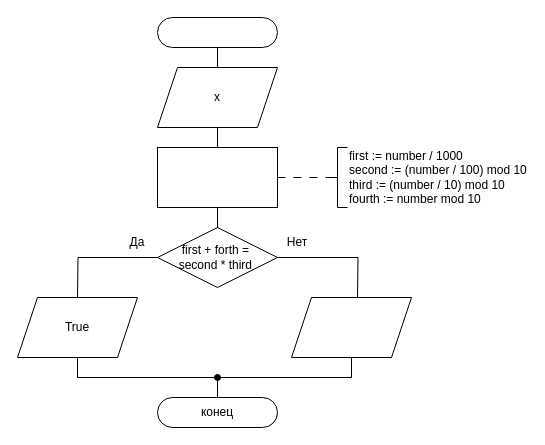
This 545x445 diagram has some shape labels left out. The shapes that lost their labels are listed below. From the top down, each one's centre as x and y in pixels, then its label:
(x=217, y=32): начало
(x=351, y=327): False
